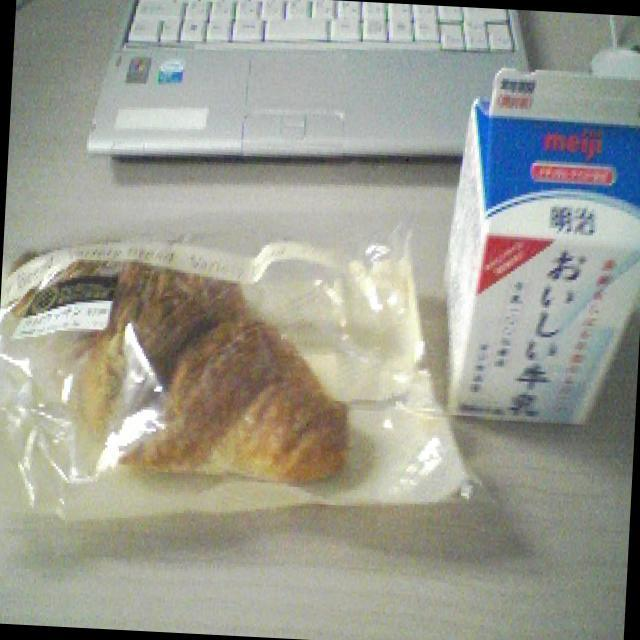Croissant: (0, 249, 363, 498)
